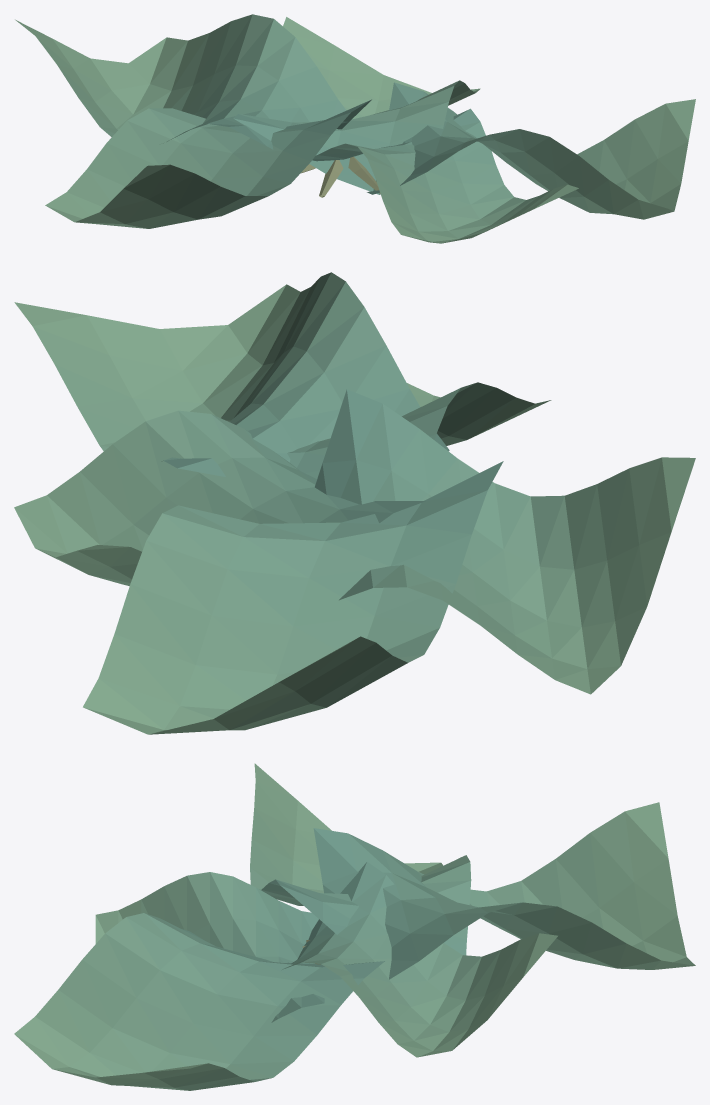
File: SheetHabitat1.gltf
3 renders of one model, top to bottom at view 1: azimuth 30°, elevation 25°; view 2: azimuth 150°, elevation 25°; view 3: azimuth 270°, elevation 25°, orthographic. The views are drawn at different scales.
Visible parts, largest first — view 1: SheetHabitat1; view 2: SheetHabitat1; view 3: SheetHabitat1.
Part boxes in pixels (x1,y1,x2,y2): SheetHabitat1: (15,14,695,243); SheetHabitat1: (14,272,695,734); SheetHabitat1: (14,763,695,1090).
Bounding box in the file's own units: 3.39 × 0.7081 × 3.57.
